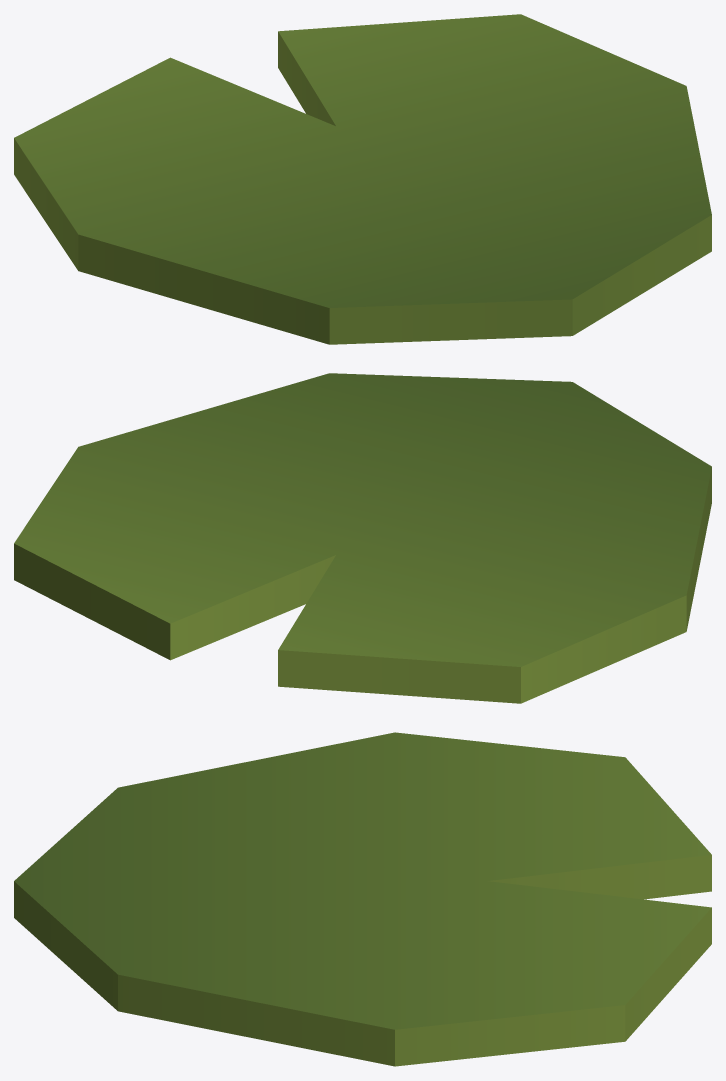
File: PondPlant_01.fbx
3 views of the same model, one above another, from view 1: azimuth 30°, elevation 25°; view 2: azimuth 150°, elevation 25°; view 3: azimuth 270°, elevation 25° (orthographic).
Visible parts, largest first — view 1: PondPlant_01_LOD0; view 2: PondPlant_01_LOD0; view 3: PondPlant_01_LOD0.
Part boxes in pixels (left/top/right/bottom): PondPlant_01_LOD0: left=14, top=14, right=711, bottom=344; PondPlant_01_LOD0: left=14, top=373, right=711, bottom=703; PondPlant_01_LOD0: left=14, top=732, right=711, bottom=1066.
Size of what is drawn, in the model's own units: 0.1737 by 0.01 by 0.1723.
